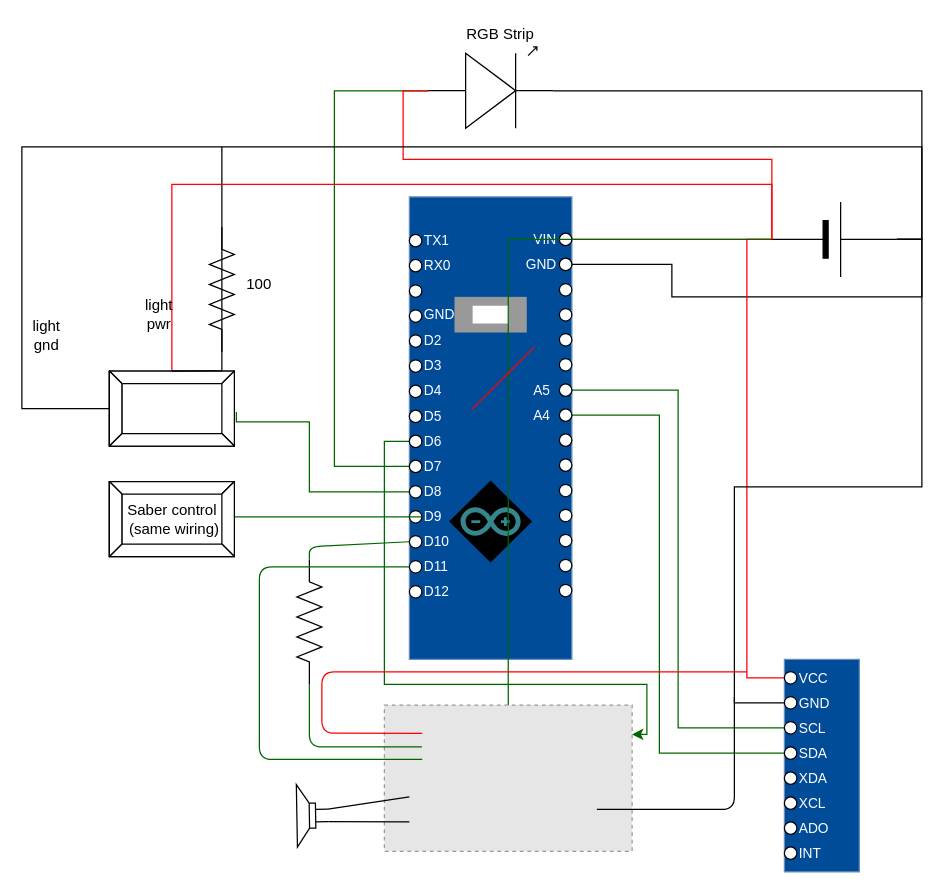
This 945x894 diagram has some shape labels left out. Grey dashed boxes stand in for pictures. Each missing label, with the box of its shape:
1k: (296, 558, 322, 684)
Saber switch: (108, 370, 234, 446)
